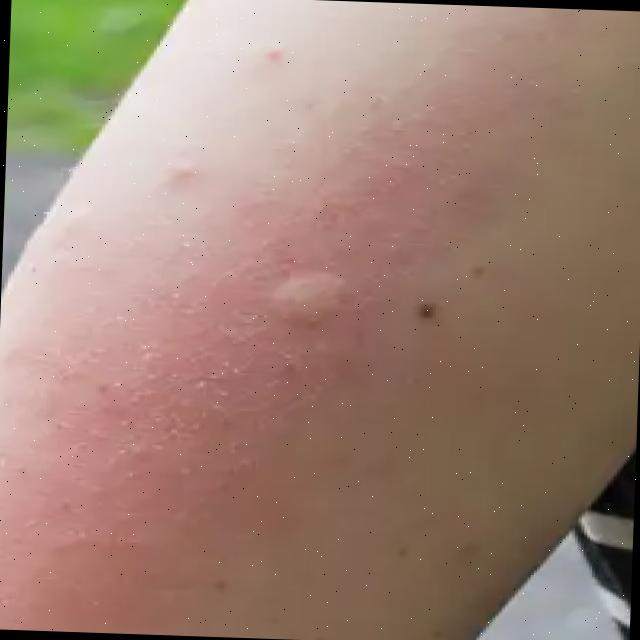sinek: (227, 234, 410, 358)
